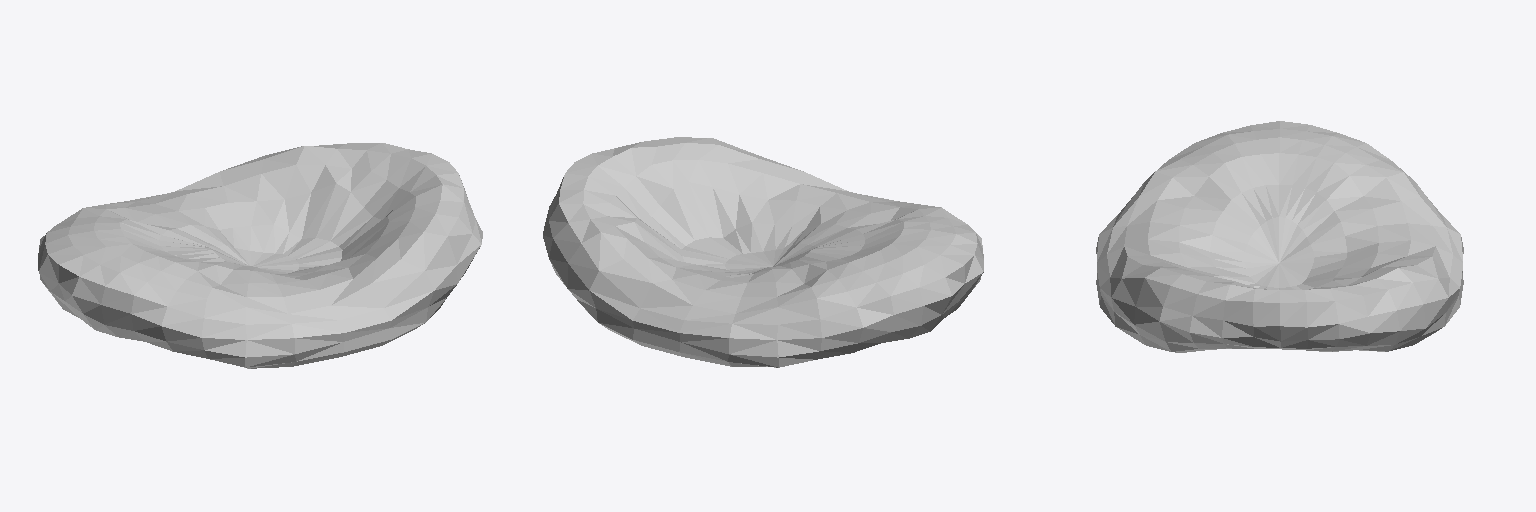
The model's file is lick2.obj.
The picture shows the model from 3 angles: view 1: azimuth 30°, elevation 25°; view 2: azimuth 150°, elevation 25°; view 3: azimuth 270°, elevation 25°; orthographic projection.
Visible parts, largest first — view 1: Sphere_Sphere.002; view 2: Sphere_Sphere.002; view 3: Sphere_Sphere.002.
Boxes of the visible parts, box(x1,y1,x2,y2) form: Sphere_Sphere.002: box(38, 143, 482, 368); Sphere_Sphere.002: box(543, 137, 983, 367); Sphere_Sphere.002: box(1096, 121, 1463, 352).
Size of the model in its own units: 2.76 by 0.6626 by 2.19.